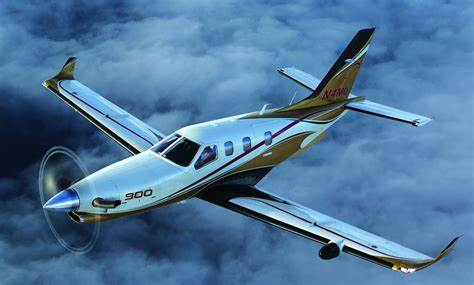Aeronef_commercial: (29, 22, 464, 280)
